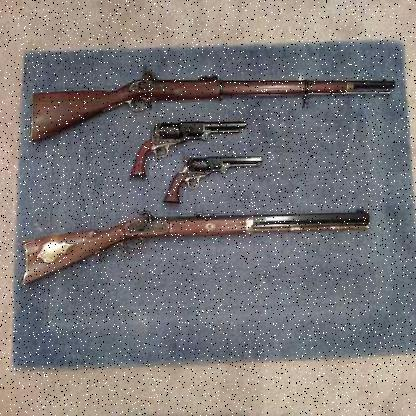rifle: (21, 169, 379, 317), (26, 52, 406, 148)
